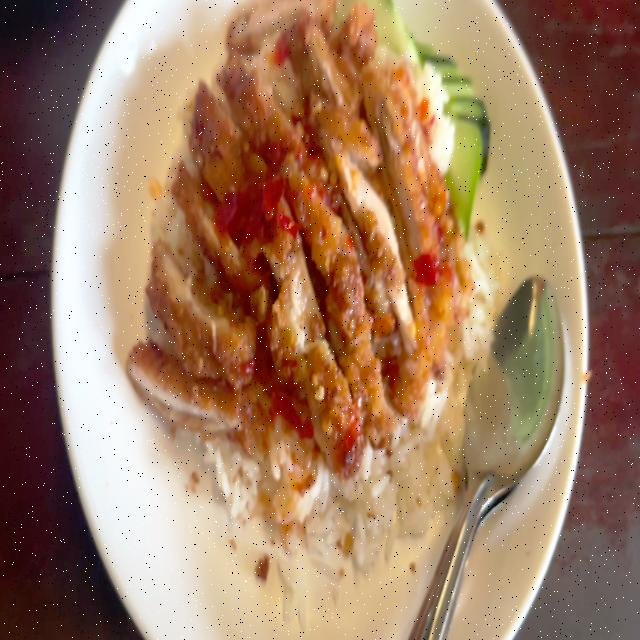chicken_rice: (122, 0, 493, 615)
cucumber: (407, 21, 493, 239), (331, 0, 424, 70)
fried_chicken: (118, 0, 463, 466)
